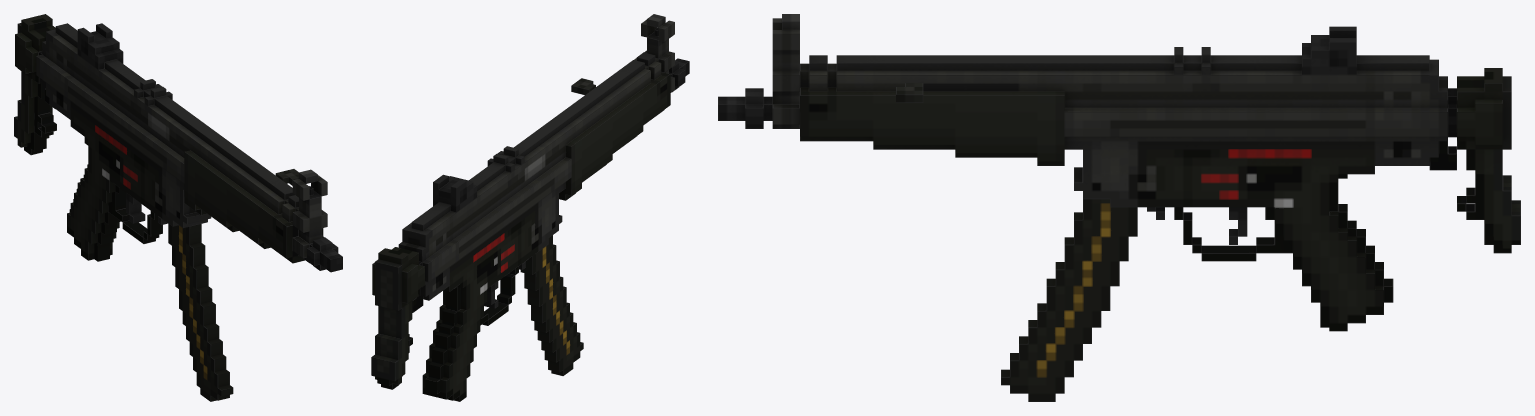
The picture shows the model from 3 angles, left to right: view 1: azimuth 30°, elevation 25°; view 2: azimuth 150°, elevation 25°; view 3: azimuth 270°, elevation 25°; orthographic projection. The views are drawn at different scales.
Visible parts, largest first — view 1: HK_MP5_BODY, HK_MP5_CLIP; view 2: HK_MP5_BODY, HK_MP5_CLIP, HK_MP5_BOLT; view 3: HK_MP5_BODY, HK_MP5_CLIP.
Part boxes in pixels (x1=…): HK_MP5_BODY: x1=14, y1=14, x2=342, y2=272; HK_MP5_CLIP: x1=168, y1=224, x2=233, y2=401; HK_MP5_BODY: x1=371, y1=14, x2=689, y2=401; HK_MP5_CLIP: x1=520, y1=235, x2=583, y2=375; HK_MP5_BOLT: x1=571, y1=78, x2=595, y2=94; HK_MP5_BODY: x1=718, y1=14, x2=1520, y2=331; HK_MP5_CLIP: x1=1001, y1=199, x2=1137, y2=401.
Bounding box in the file's own units: 0.0886 × 0.4527 × 0.8662.
Materials: 1 (1 with a texture image).
